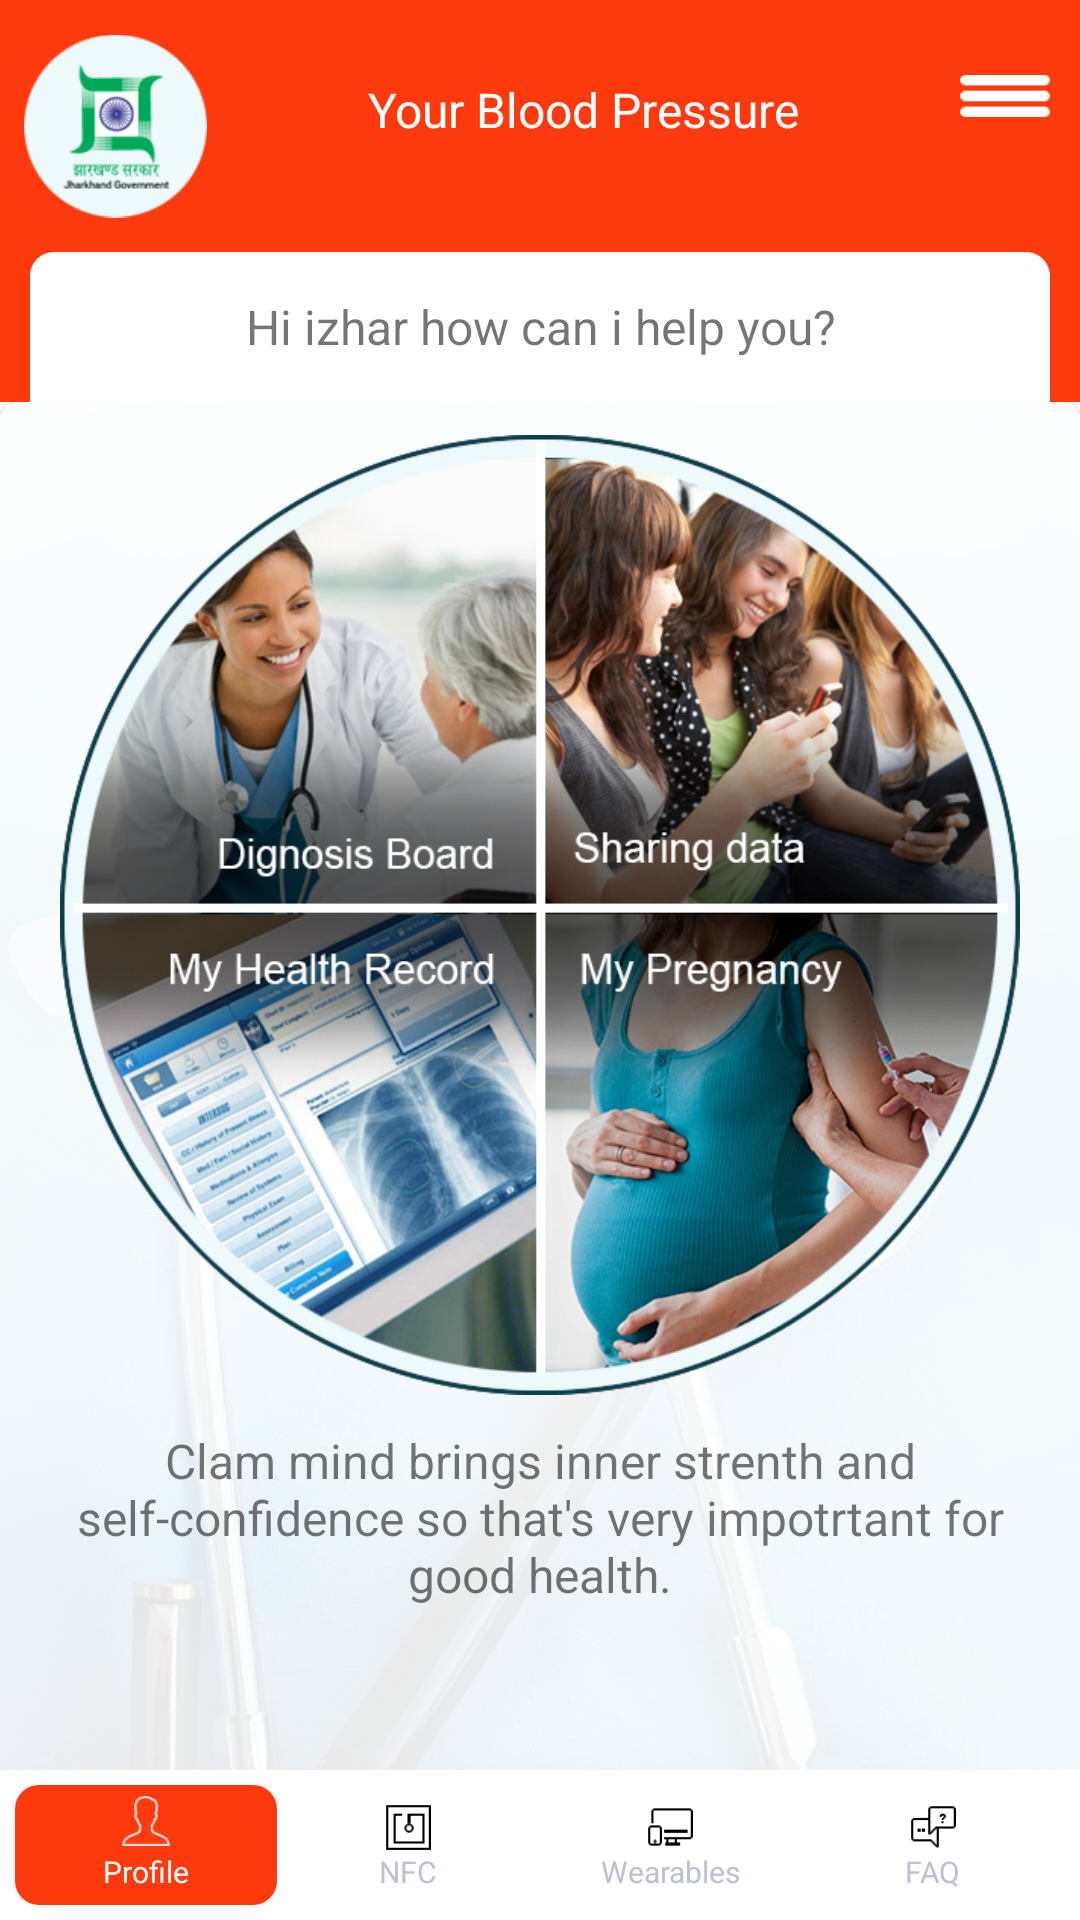

Icons on this 1080w x 1920h Android screen, each with its box as detection(x1, y1, x2, y2):
menu: detection(960, 75, 1050, 117)
